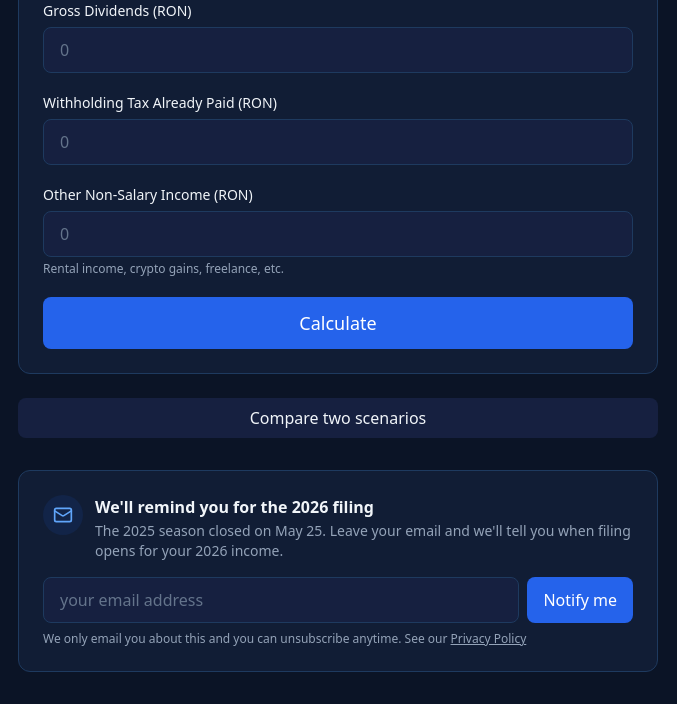
WhatIfSimulator › shows a zero total difference and no callout for two identical scenarios
(page scrolled)
Step 1. Click the button "Compare two scenarios" → (338, 418), box [18, 398, 658, 438]
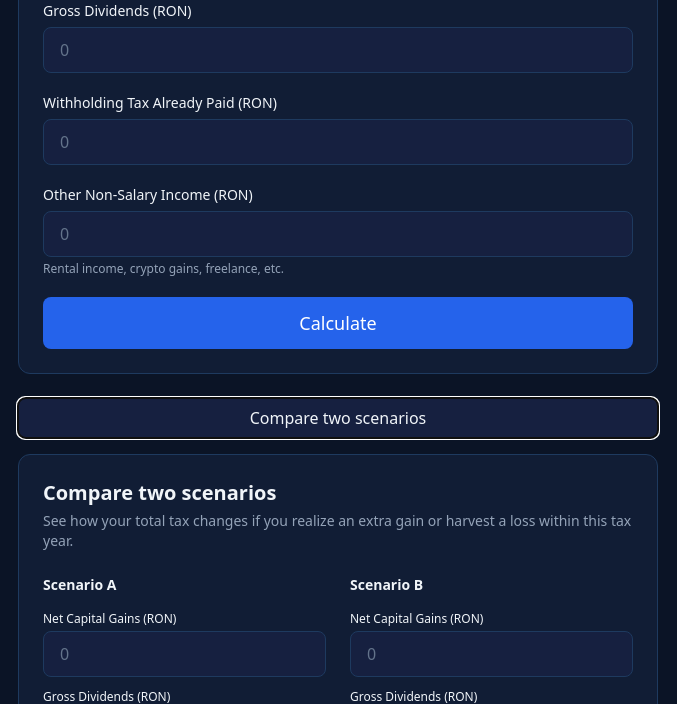
Step 2. Type "50000" into the field with placeholder "0" below "Scenario A" → (184, 654), box [43, 631, 326, 677]
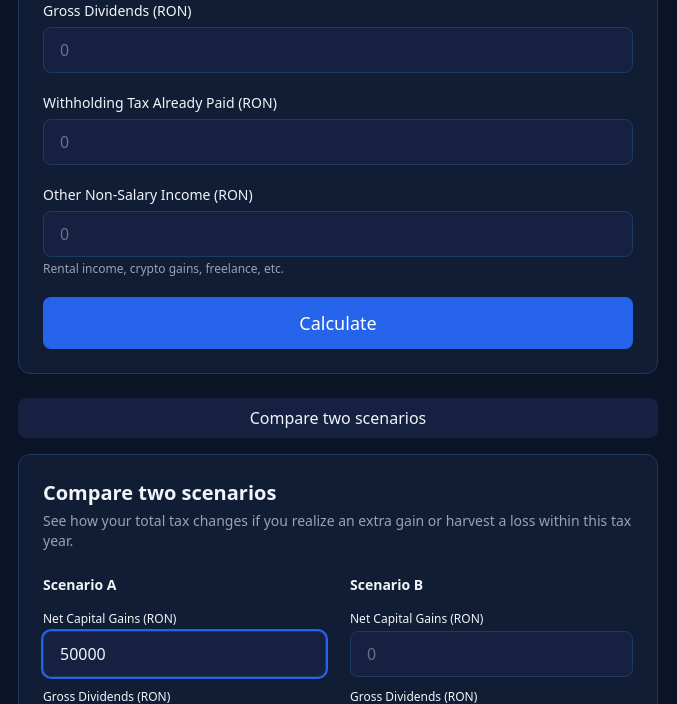
Step 3. Type "50000" into the field with placeholder "0" below "Scenario B" → (492, 654), box [350, 631, 633, 677]
(page scrolled)
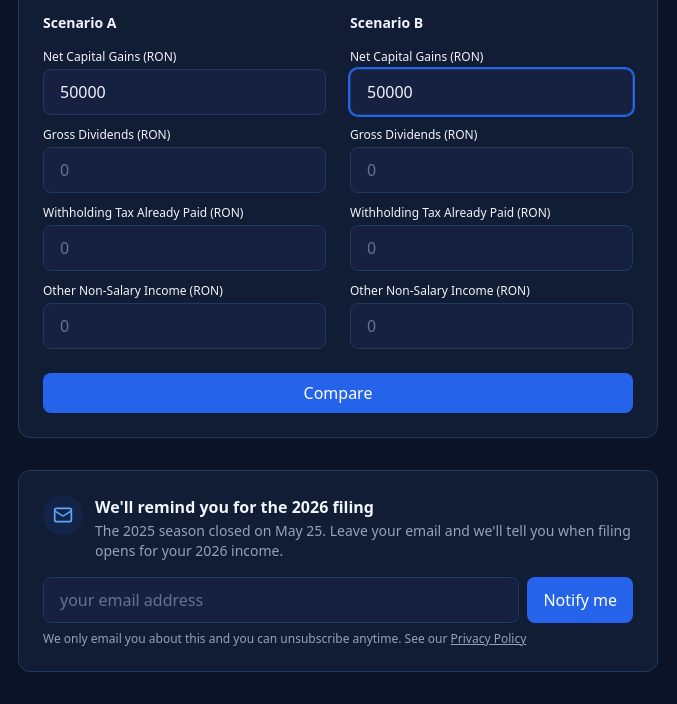
Step 4. Click the button "Compare" → (338, 393), box [43, 373, 633, 413]
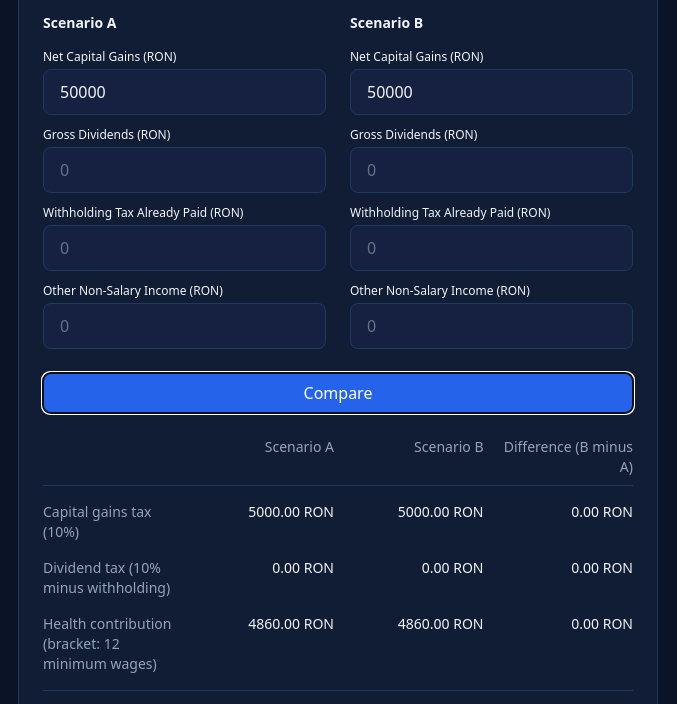
Result: the text "0.00 RON" in the row of "Capital gains tax (10%)" is shown at [571, 502, 633, 521]
